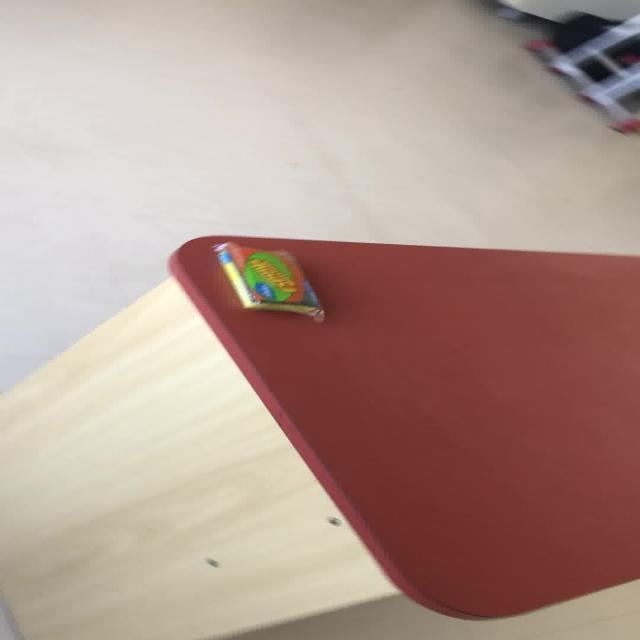sponge: (167, 234, 638, 620), (210, 240, 325, 323)
